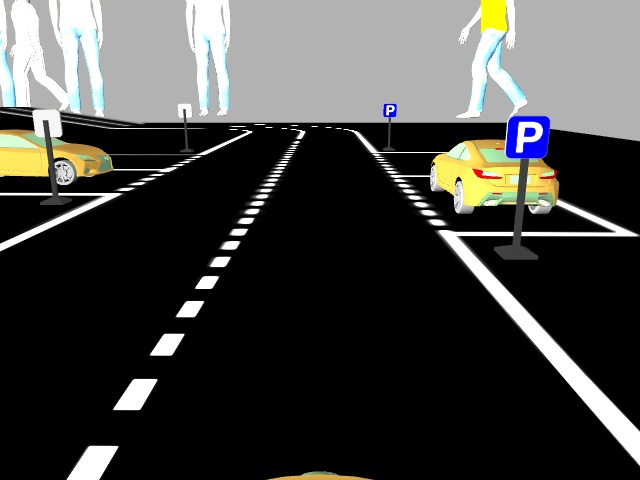Parking: (504, 116, 551, 161), (381, 102, 397, 116)
